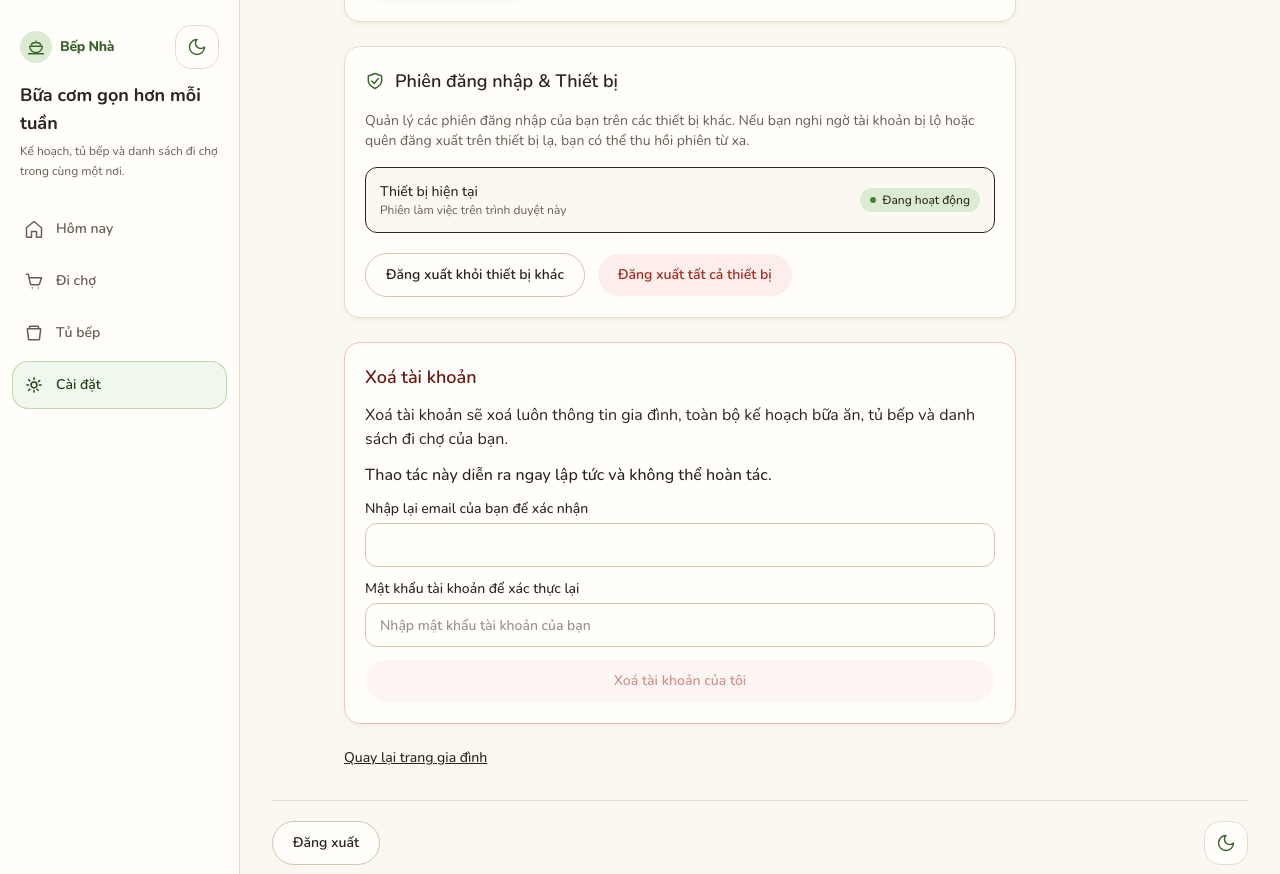
account deletion › explains that a catalog author cannot self-delete
(page scrolled)
Type "chu-nha@example.com" into the field labelled "Nhập lại email của bạn để xác nhận". click: (680,545)
box: x1=365 y1=523 x2=995 y2=567
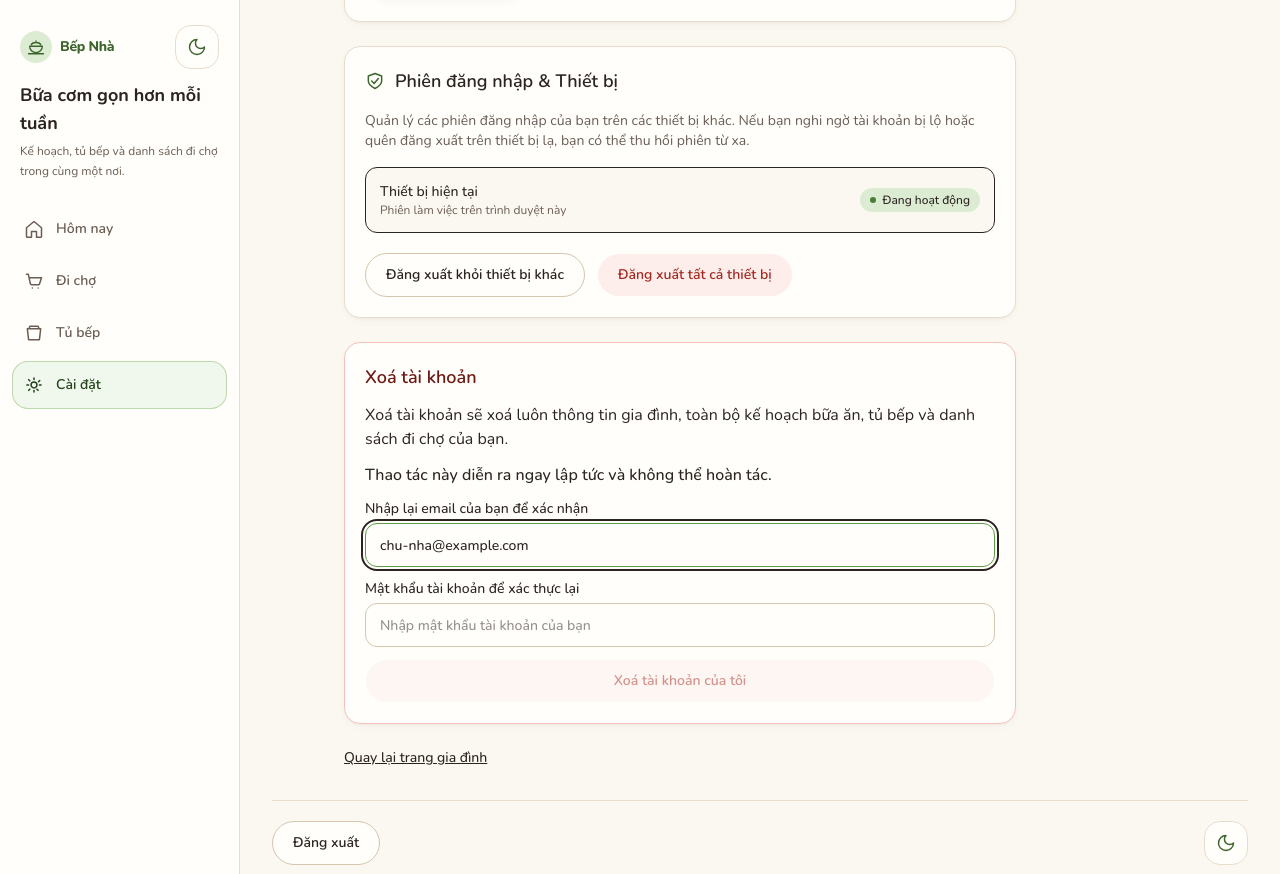
Type "my-password" into the password field labelled "Mật khẩu tài khoản để xác thực lại". click: (680,625)
box: x1=365 y1=603 x2=995 y2=647
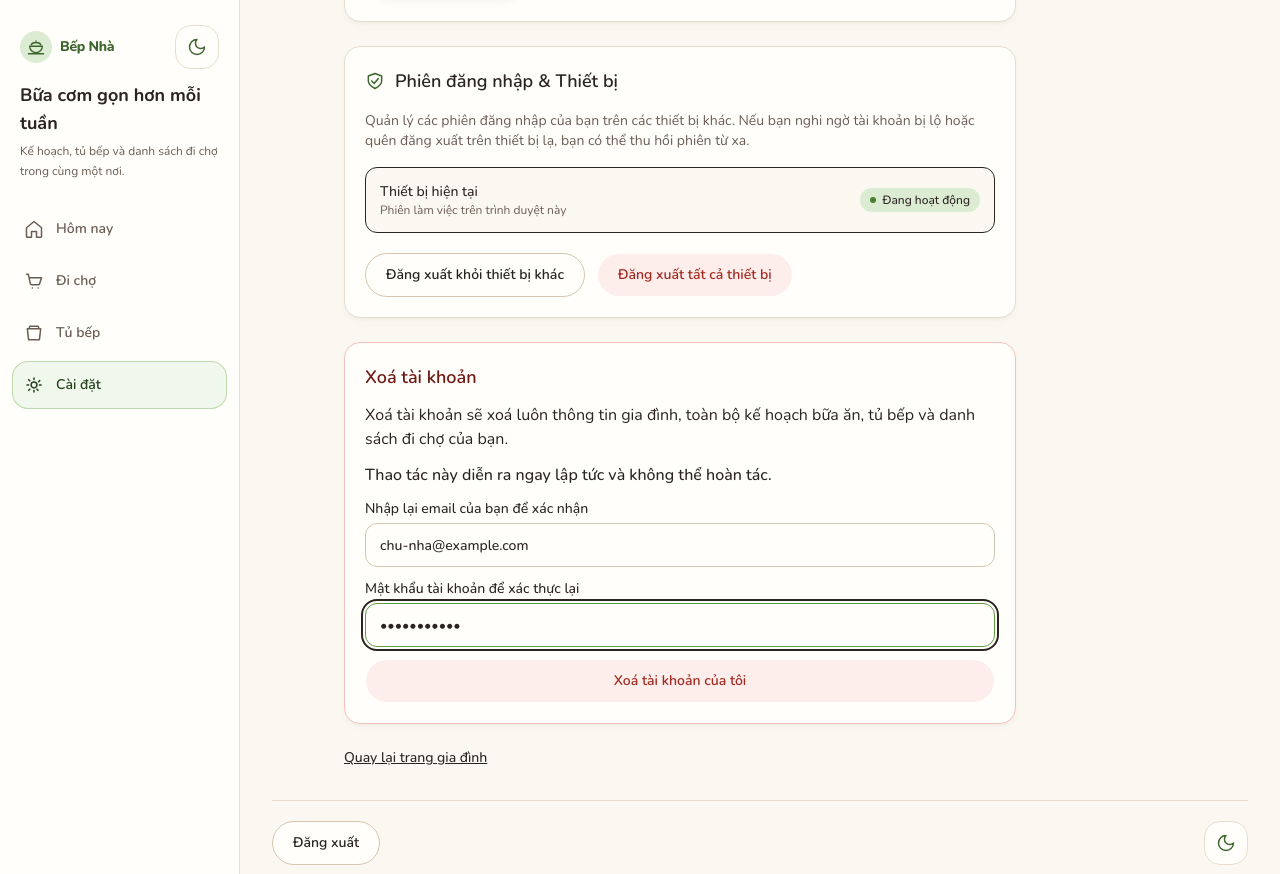
Click the button "Xoá tài khoản của tôi". click: (680,681)
box: x1=365 y1=659 x2=995 y2=703
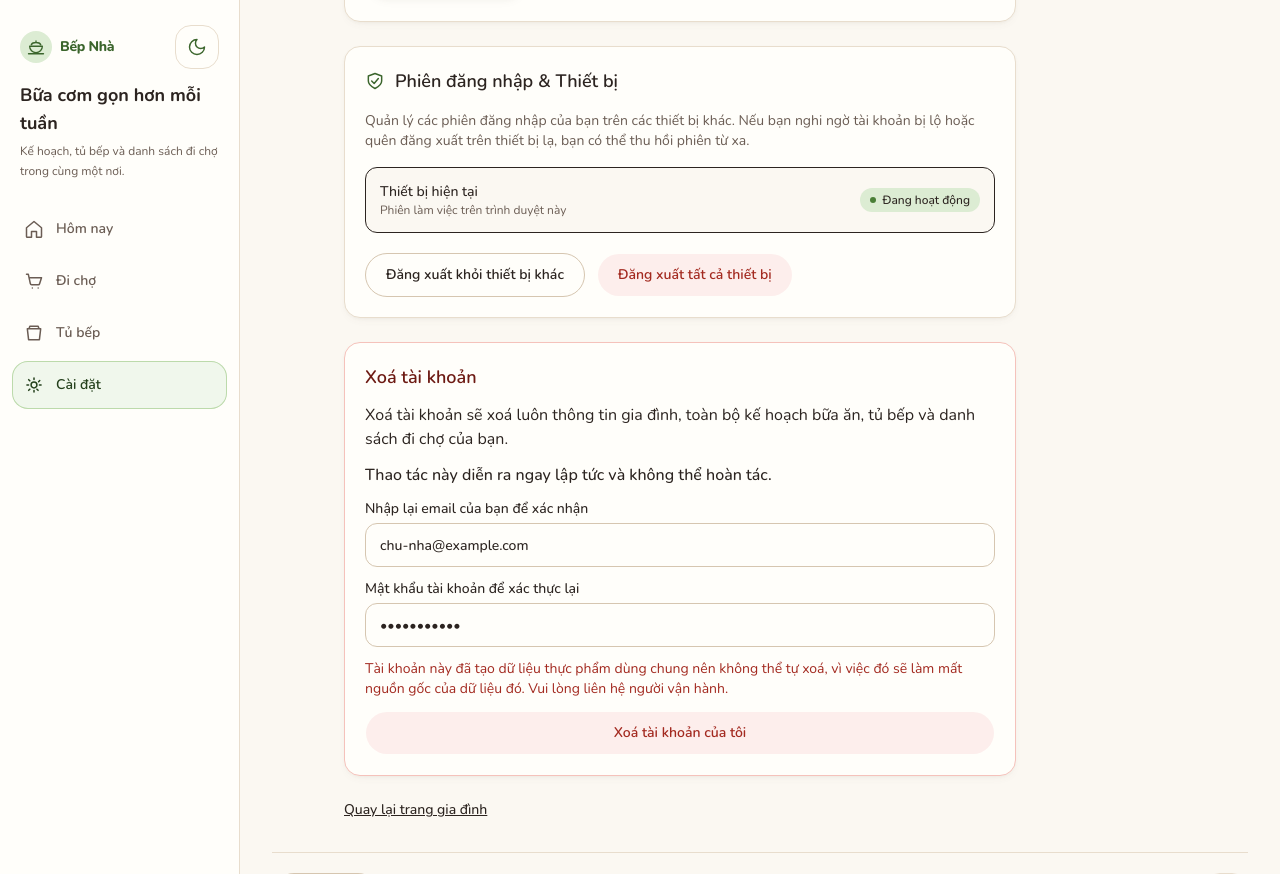
Result: the message shows "dữ liệu thực phẩm dùng chung" at x1=365 y1=659 x2=962 y2=698
Result: the message shows "liên hệ người vận hành" at x1=365 y1=659 x2=962 y2=698
